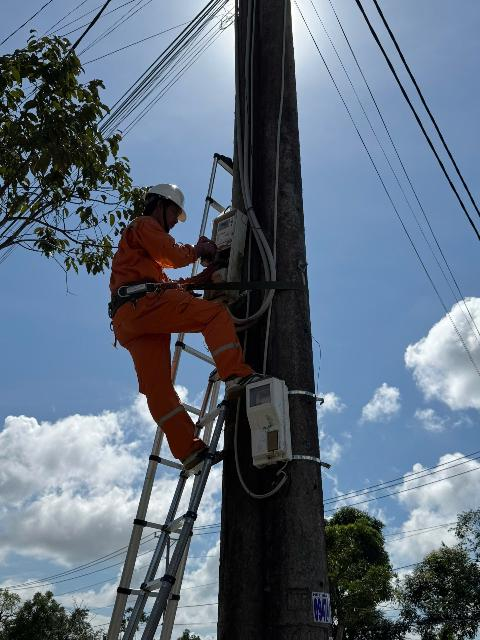gloves: (186, 233, 229, 268)
harness: (80, 273, 213, 313)
helmet: (139, 168, 205, 220)
shoes: (176, 440, 245, 477), (221, 366, 276, 394)
